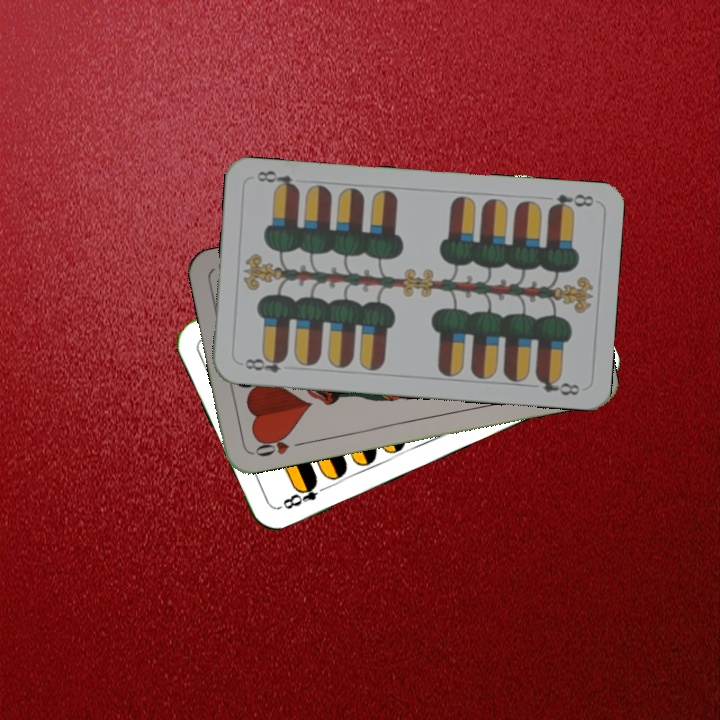E8: (275, 476, 331, 512), (236, 351, 289, 376), (544, 190, 597, 214)
HO: (249, 430, 308, 460)
